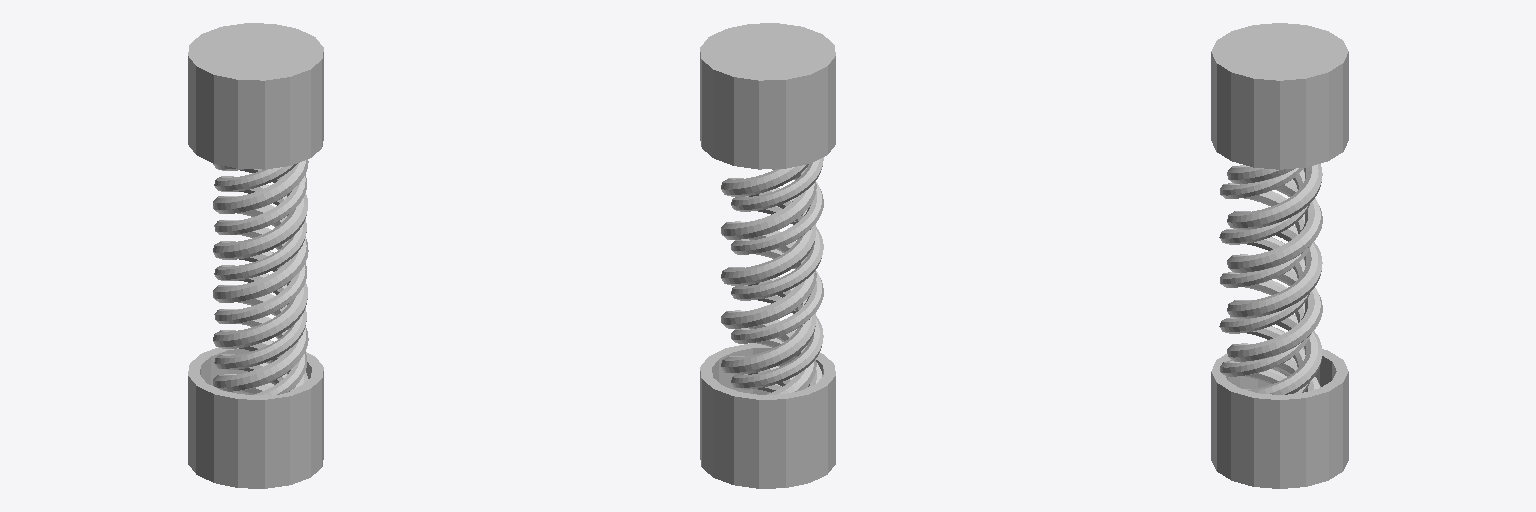
Rendered from tubo6.obj.
The picture shows the model from 3 angles: view 1: azimuth 30°, elevation 25°; view 2: azimuth 150°, elevation 25°; view 3: azimuth 270°, elevation 25°; orthographic projection.
Visible parts, largest first — view 1: pasted__pasted__tubo4 pasted__group7 group8 tubo10:Cap, pasted__pasted__tubo4 pasted__group7 group8 tubo10:Spiral_Glass, tubo10:Spiral pasted__pasted__tubo4 pasted__group7 group8, pasted__pasted__tubo4 pasted__group7 group8 tubo10:Cap_High_Poly; view 2: pasted__pasted__tubo4 pasted__group7 group8 tubo10:Cap, pasted__pasted__tubo4 pasted__group7 group8 tubo10:Spiral_Glass, pasted__pasted__tubo4 pasted__group7 group8 tubo10:Cap_High_Poly, tubo10:Spiral pasted__pasted__tubo4 pasted__group7 group8; view 3: pasted__pasted__tubo4 pasted__group7 group8 tubo10:Cap, pasted__pasted__tubo4 pasted__group7 group8 tubo10:Spiral_Glass, pasted__pasted__tubo4 pasted__group7 group8 tubo10:Cap_High_Poly, tubo10:Spiral pasted__pasted__tubo4 pasted__group7 group8.
Part boxes in pixels (bbox=[...]): pasted__pasted__tubo4 pasted__group7 group8 tubo10:Cap: bbox=[188, 23, 323, 488]; pasted__pasted__tubo4 pasted__group7 group8 tubo10:Spiral_Glass: bbox=[213, 160, 308, 394]; tubo10:Spiral pasted__pasted__tubo4 pasted__group7 group8: bbox=[214, 163, 306, 395]; pasted__pasted__tubo4 pasted__group7 group8 tubo10:Cap_High_Poly: bbox=[188, 23, 323, 488]; pasted__pasted__tubo4 pasted__group7 group8 tubo10:Cap: bbox=[700, 23, 835, 488]; pasted__pasted__tubo4 pasted__group7 group8 tubo10:Spiral_Glass: bbox=[721, 164, 816, 394]; pasted__pasted__tubo4 pasted__group7 group8 tubo10:Cap_High_Poly: bbox=[700, 24, 835, 488]; tubo10:Spiral pasted__pasted__tubo4 pasted__group7 group8: bbox=[731, 157, 823, 392]; pasted__pasted__tubo4 pasted__group7 group8 tubo10:Cap: bbox=[1211, 23, 1348, 488]; pasted__pasted__tubo4 pasted__group7 group8 tubo10:Spiral_Glass: bbox=[1227, 164, 1322, 394]; pasted__pasted__tubo4 pasted__group7 group8 tubo10:Cap_High_Poly: bbox=[1211, 23, 1348, 488]; tubo10:Spiral pasted__pasted__tubo4 pasted__group7 group8: bbox=[1219, 168, 1310, 393].
Bounding box in the file's own units: 0.0888 × 0.291 × 0.0888.